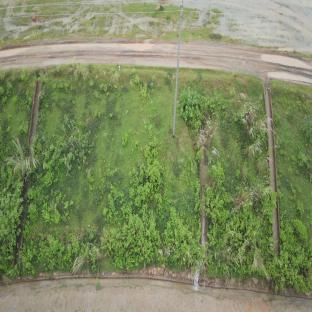slope_drain: (11, 82, 43, 269), (264, 85, 281, 259), (199, 128, 209, 266)
toe_drain: (1, 275, 312, 309)
vegetation: (103, 140, 196, 272), (25, 130, 98, 269), (207, 161, 272, 253), (2, 159, 19, 266), (173, 85, 214, 128), (238, 106, 265, 162)
